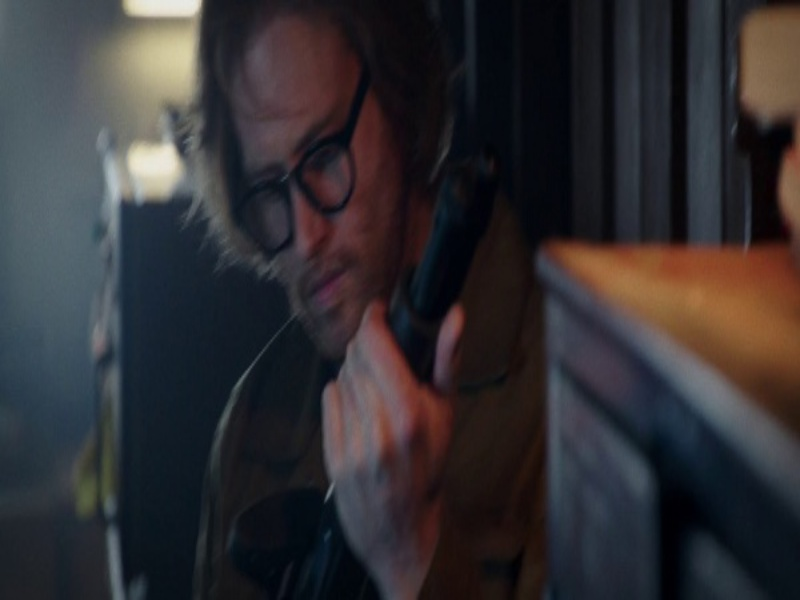person: (190, 3, 550, 592)
weapon: (238, 140, 507, 596)
